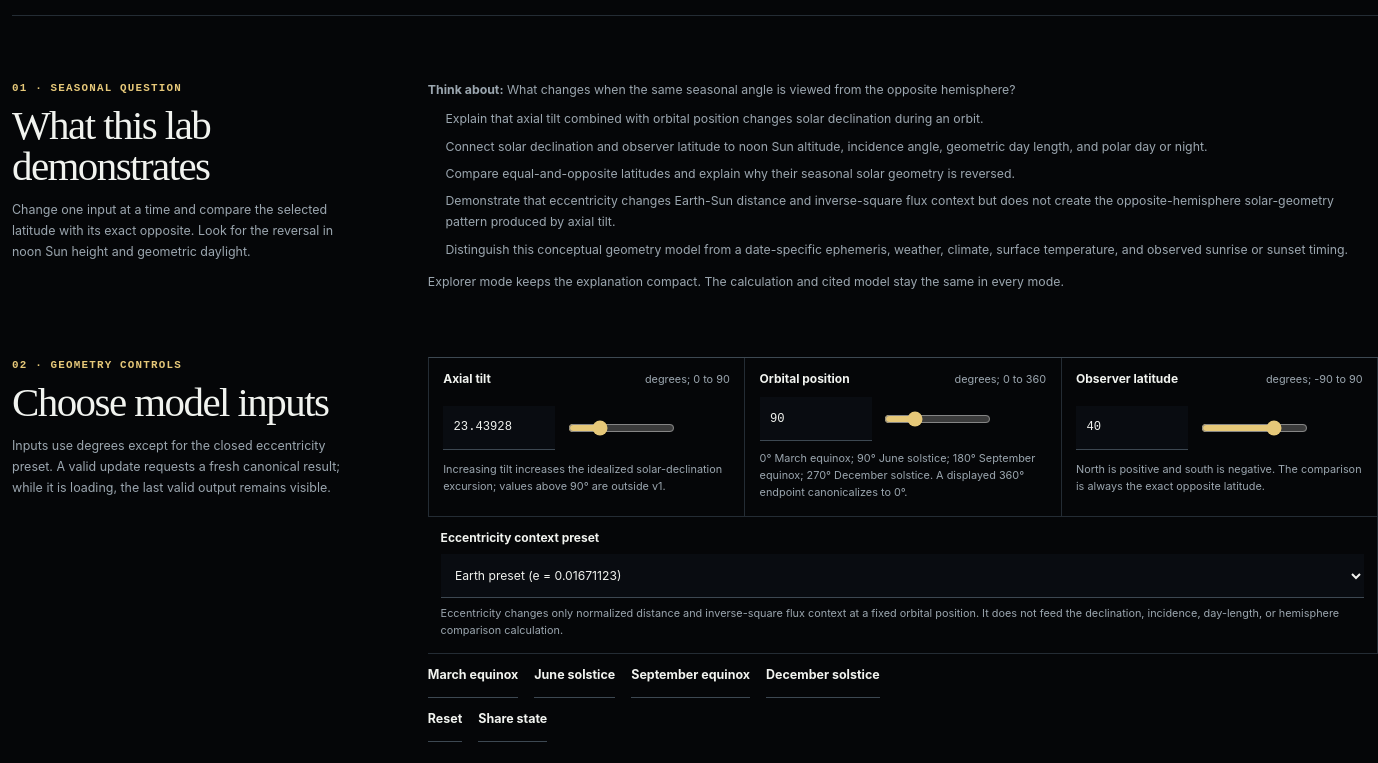
Test case: SeasonsSimulatorView › keeps the last valid result while manually entered invalid input is visible
The image size is (1378, 763).
(page scrolled)
Step 1. Clear the number field labelled "Axial tilt" → (499, 428), box [443,406,555,450]
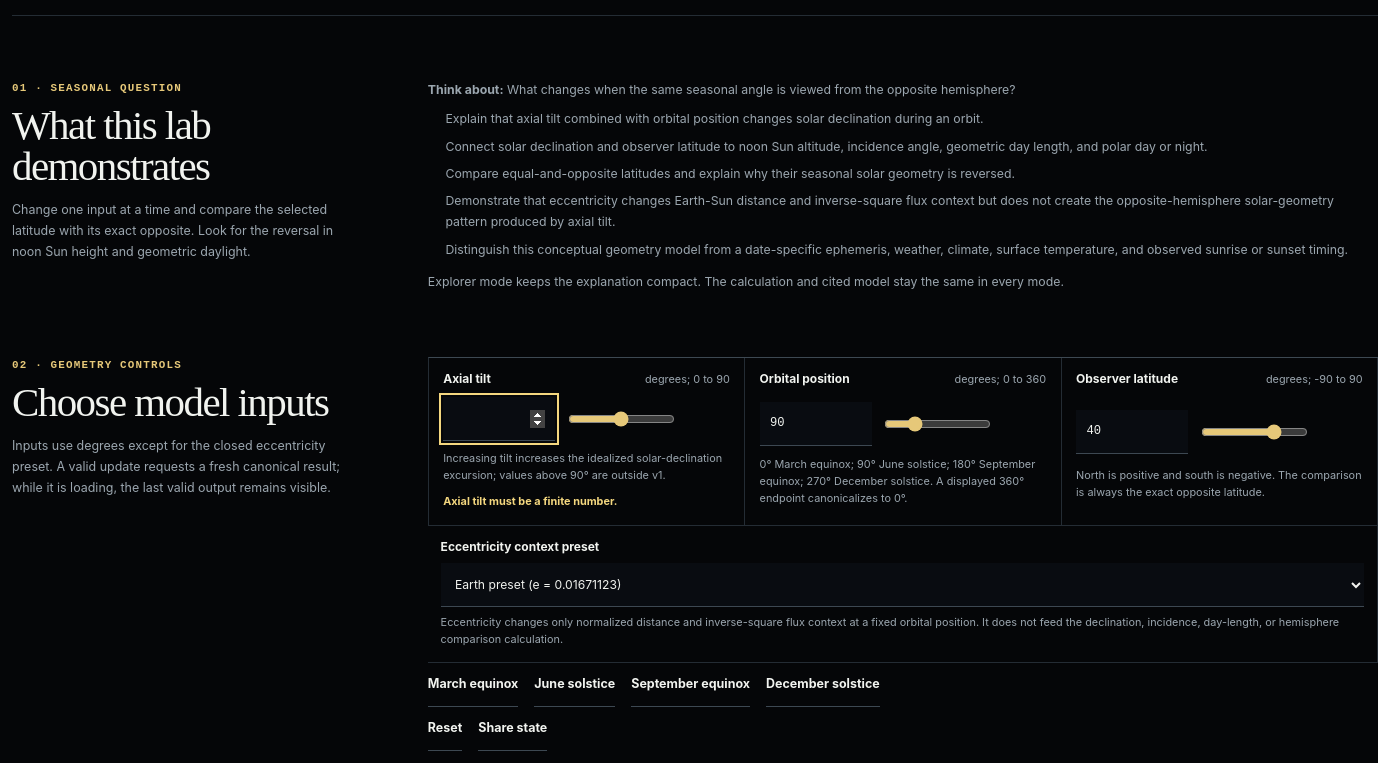
Step 2. Type "91" into the number field labelled "Axial tilt" → (499, 419), box [443,397,555,441]
(page scrolled)
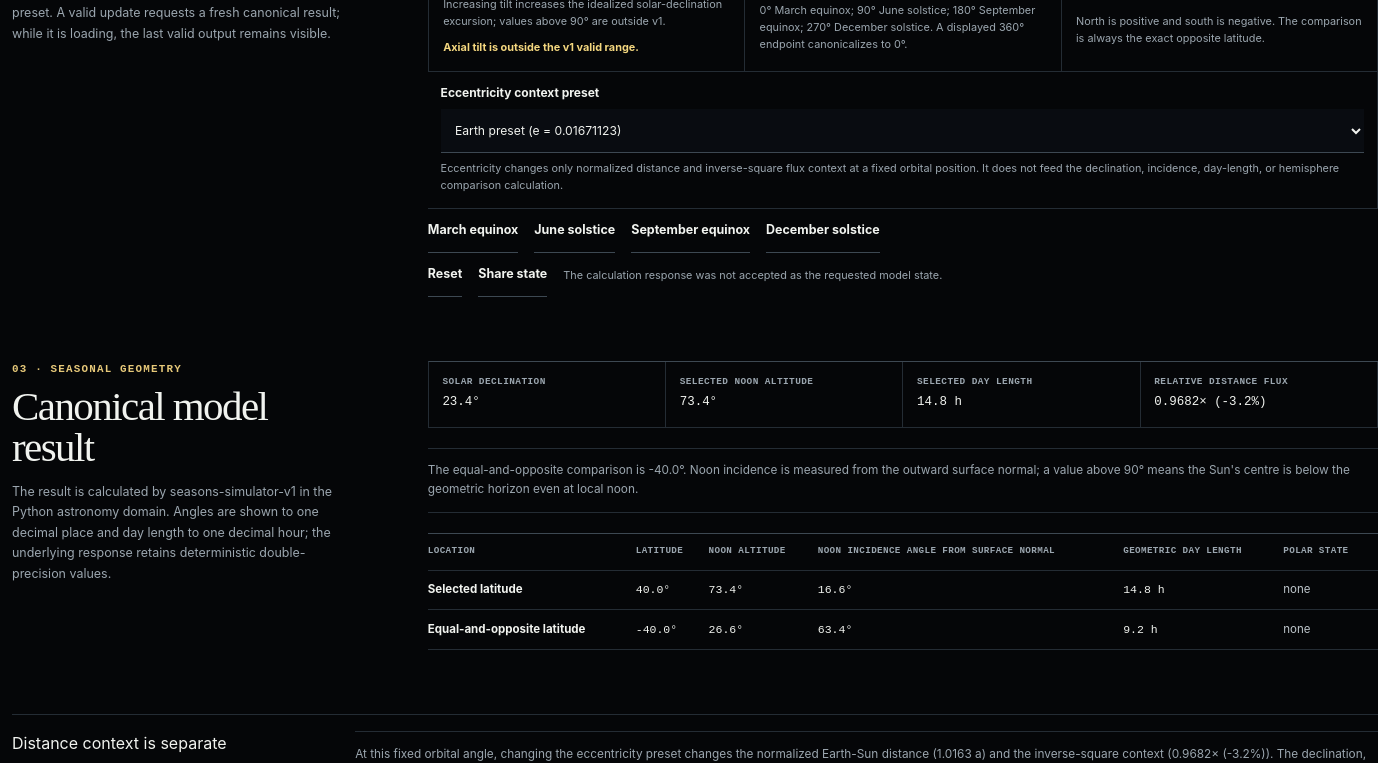
Check: the text "73.4°" is shown, box [680,396,717,410]
Check: the message "Axial tilt is outside the v1 valid range." is shown, box [443,40,639,54]
